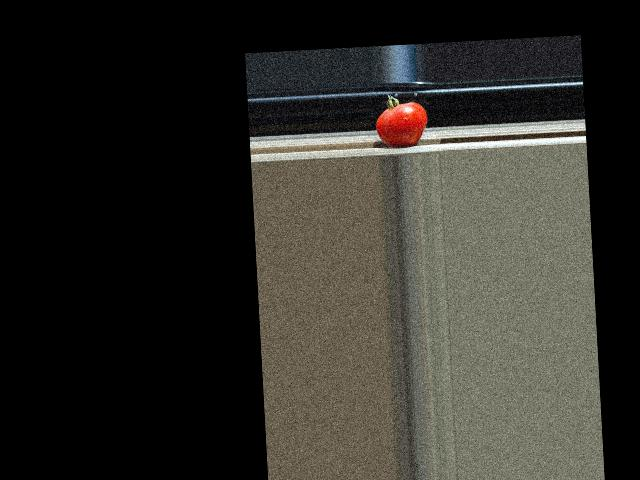tomato: (374, 92, 428, 147)
